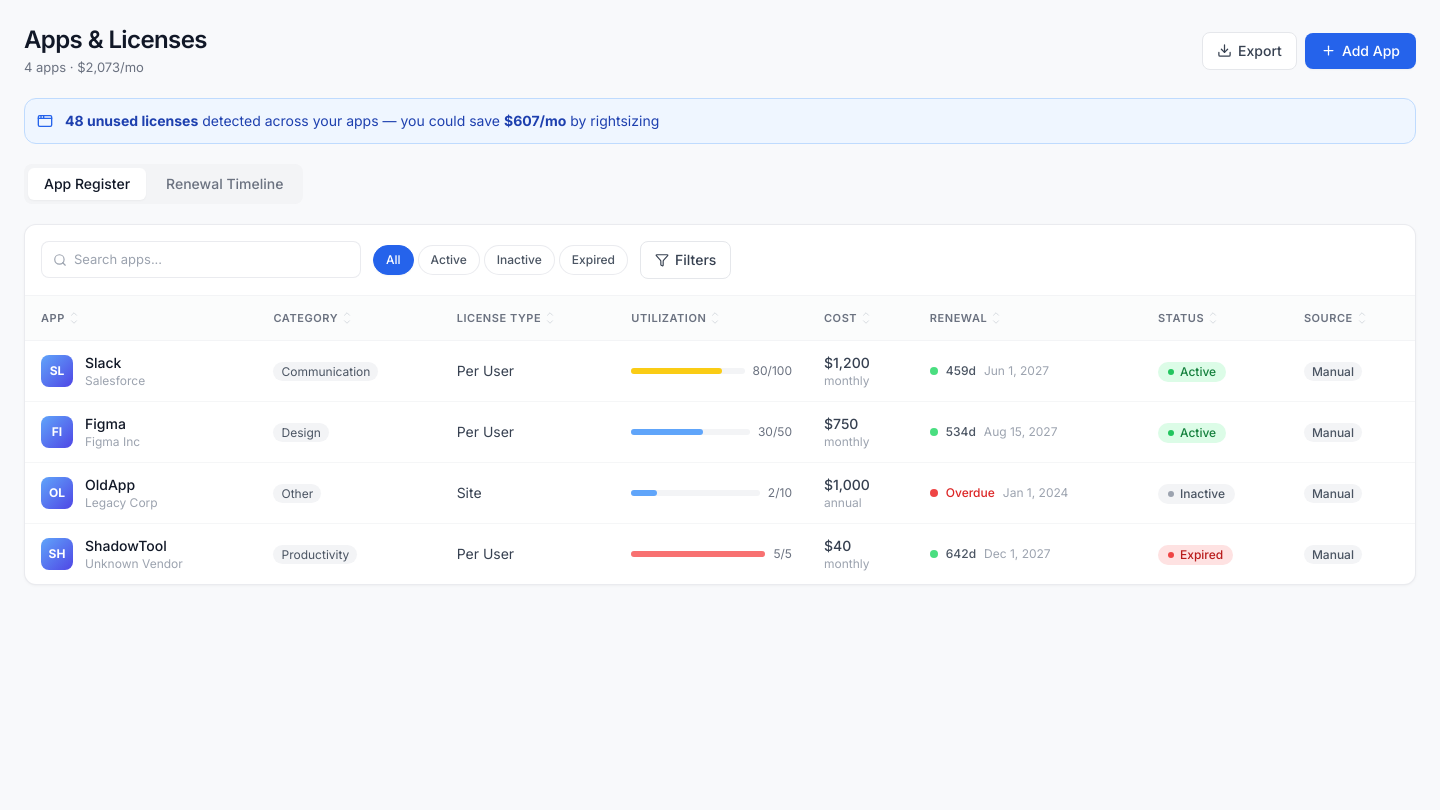
Test: AppList page › status filter pills work › filters to Inactive apps when Inactive pill is clicked
Click the button "Inactive": (519, 260) [484,244,555,274]
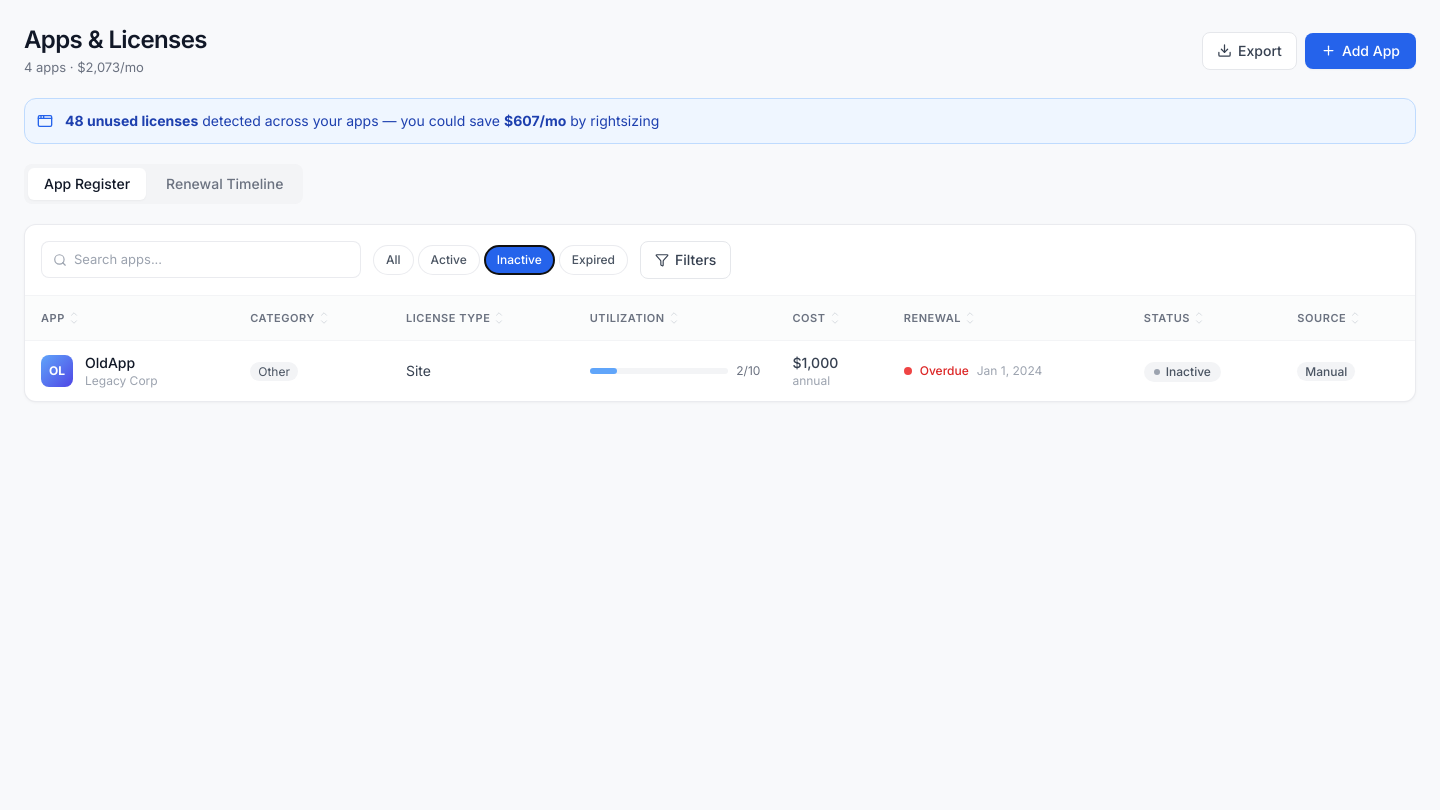
Expected: the text "Slack" is gone
Expected: the text "Figma" is gone
Expected: the text "ShadowTool" is gone
